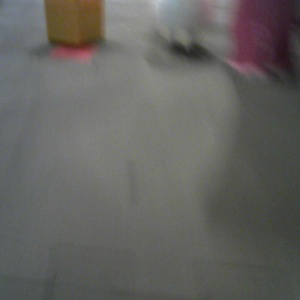right: (228, 1, 298, 74)
